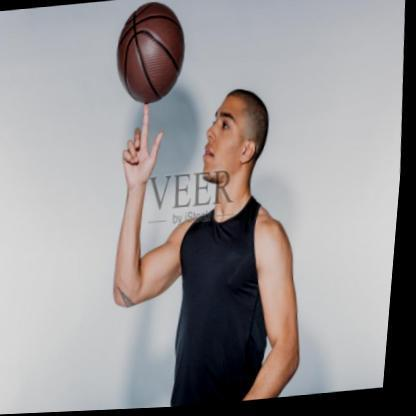basketball: (112, 1, 191, 108)
